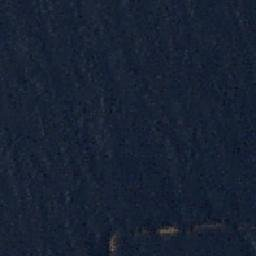debris: (157, 222, 177, 237), (192, 222, 222, 232), (107, 232, 118, 253)
